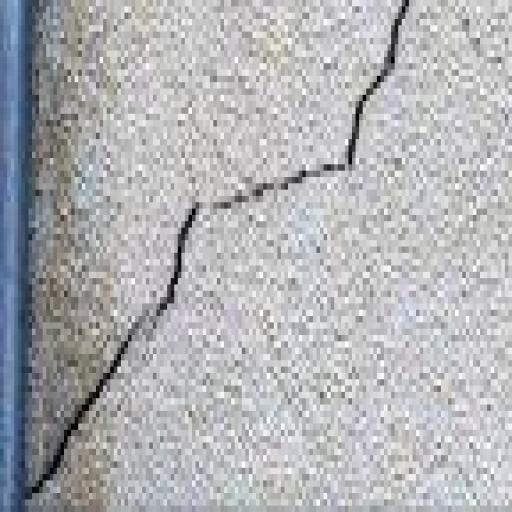spalling: (29, 5, 418, 512)
